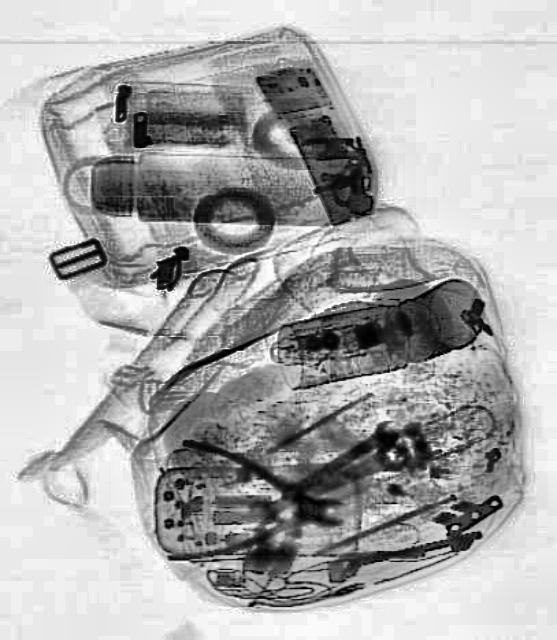Pliers: (164, 436, 344, 572)
Wrench: (292, 414, 398, 496), (330, 530, 440, 578)
